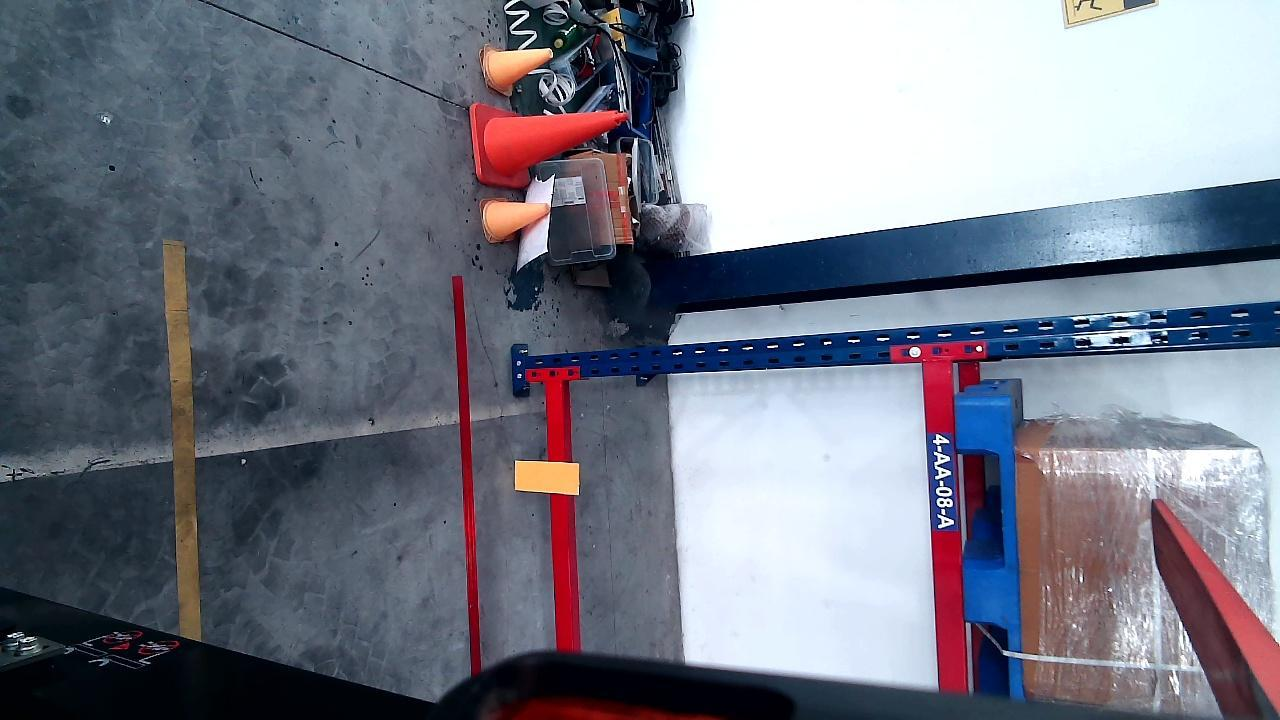red_line: (447, 278, 477, 671)
yellow_line: (169, 234, 200, 640)
